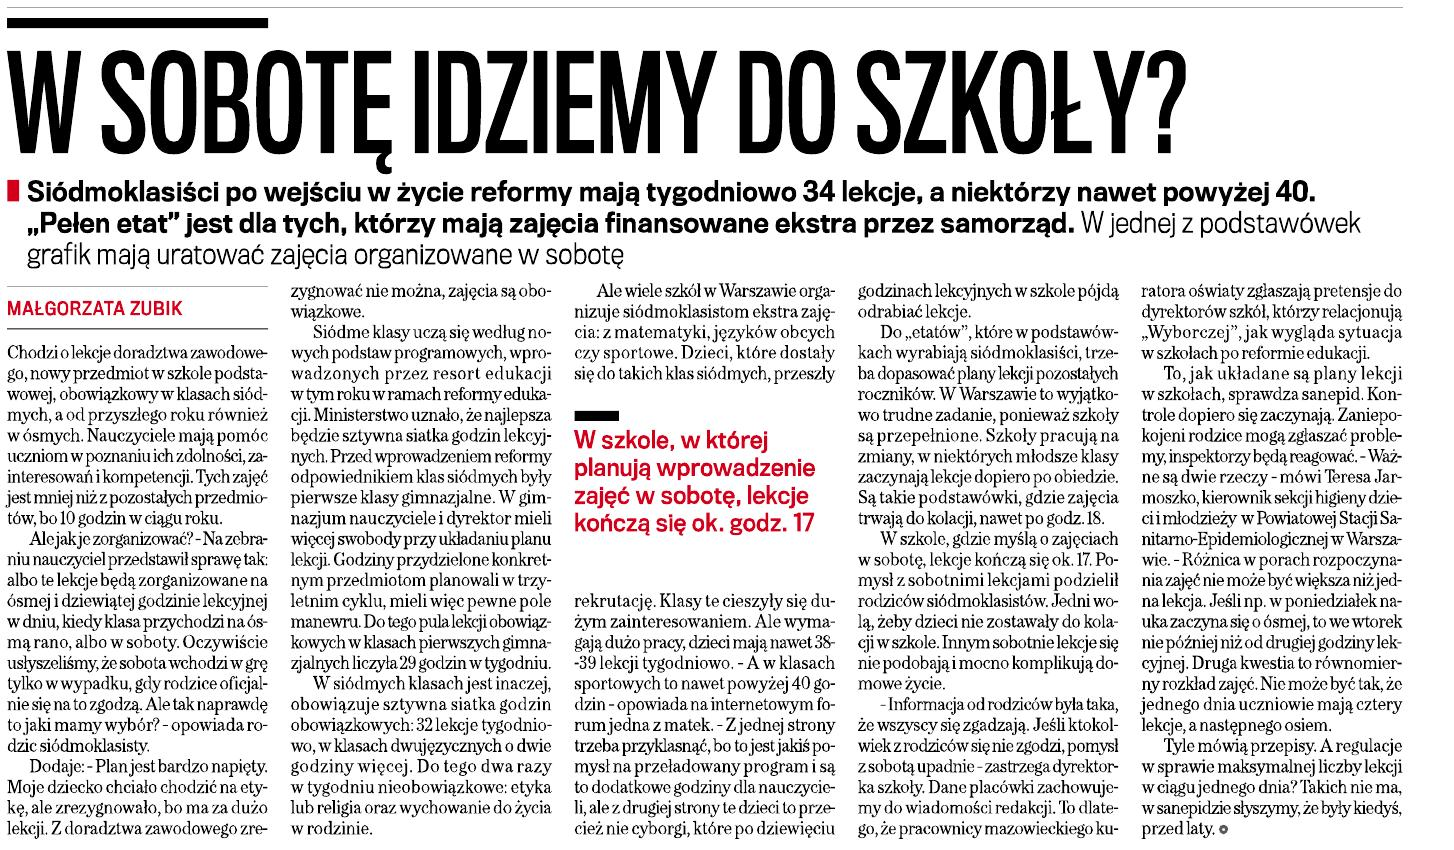author: (2, 293, 194, 323)
body: (1129, 273, 1409, 842), (852, 276, 1122, 845), (284, 280, 558, 840), (0, 335, 276, 845), (566, 587, 841, 846), (566, 402, 820, 544), (565, 277, 843, 388)
lead: (3, 174, 1374, 271)
title: (3, 34, 1201, 177)
